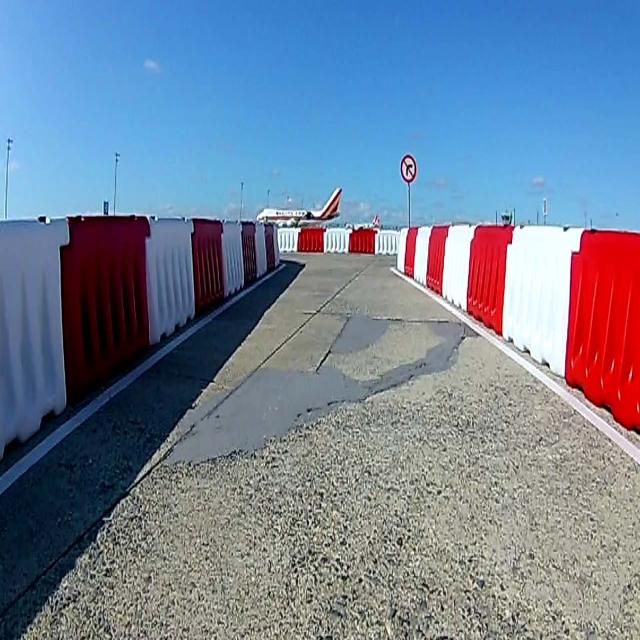sagadonulmez: (399, 154, 417, 183)
